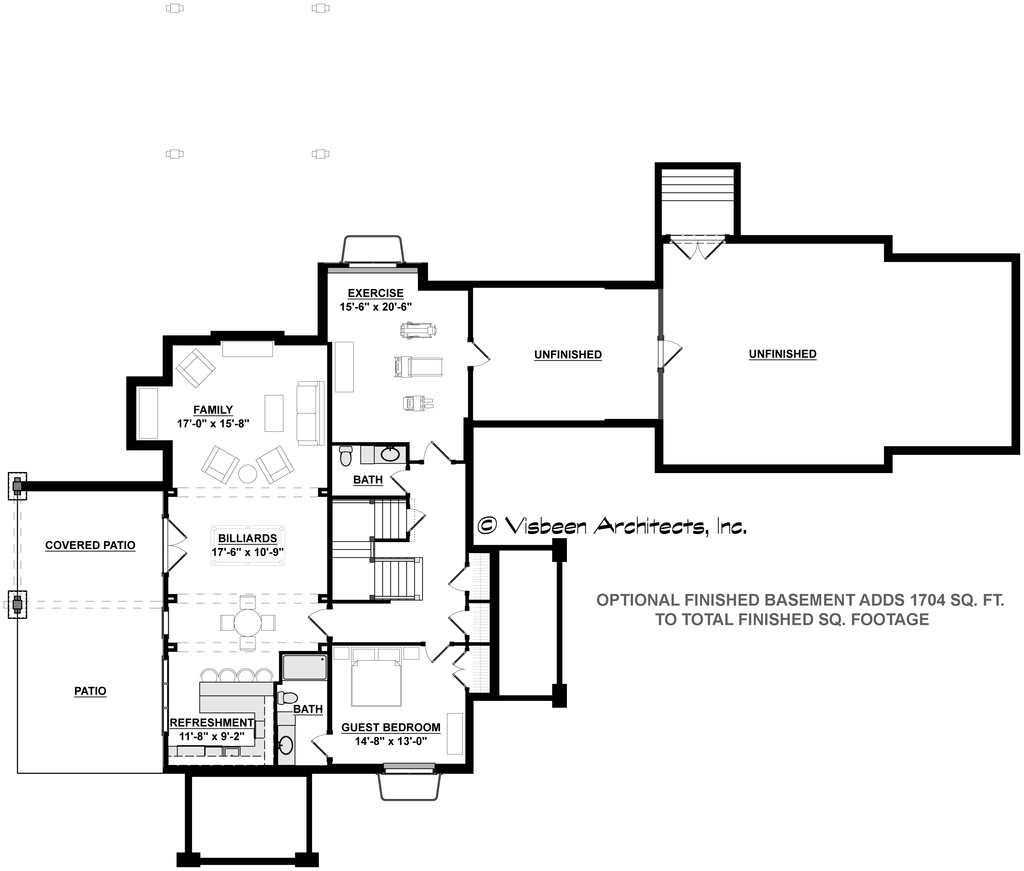bed: (353, 644, 407, 713)
door: (669, 233, 726, 264), (156, 519, 185, 573), (649, 338, 689, 375), (307, 604, 339, 642), (452, 649, 475, 692), (449, 604, 475, 640), (470, 337, 496, 368), (385, 468, 416, 494), (415, 438, 450, 461), (452, 565, 479, 594), (310, 731, 333, 763)
kitchen_bar: (195, 669, 264, 763)
large_sink: (266, 679, 303, 714)
large_sofa: (289, 371, 330, 454)
round_table: (216, 592, 284, 650)
small_sink: (270, 718, 303, 768)
small_sofa: (253, 445, 303, 496), (200, 442, 239, 494), (177, 350, 222, 395)
stairs: (331, 499, 423, 600), (657, 156, 757, 230)
